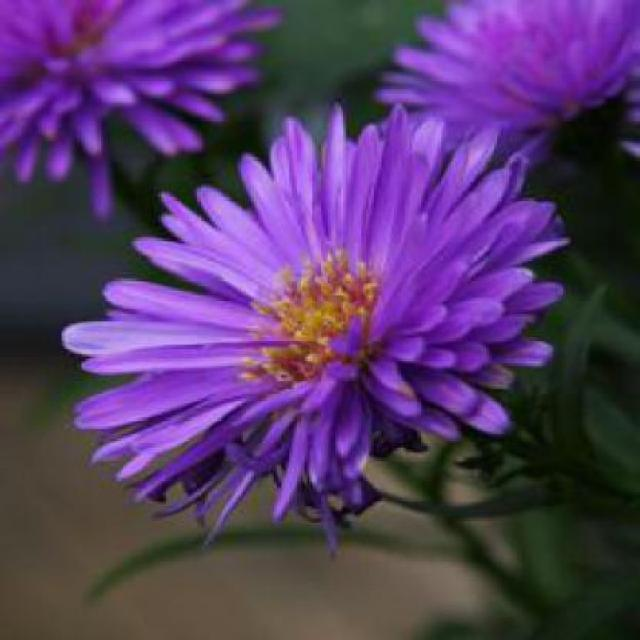Flower: (62, 101, 571, 556), (2, 3, 284, 223), (372, 2, 638, 176), (238, 248, 379, 387)
